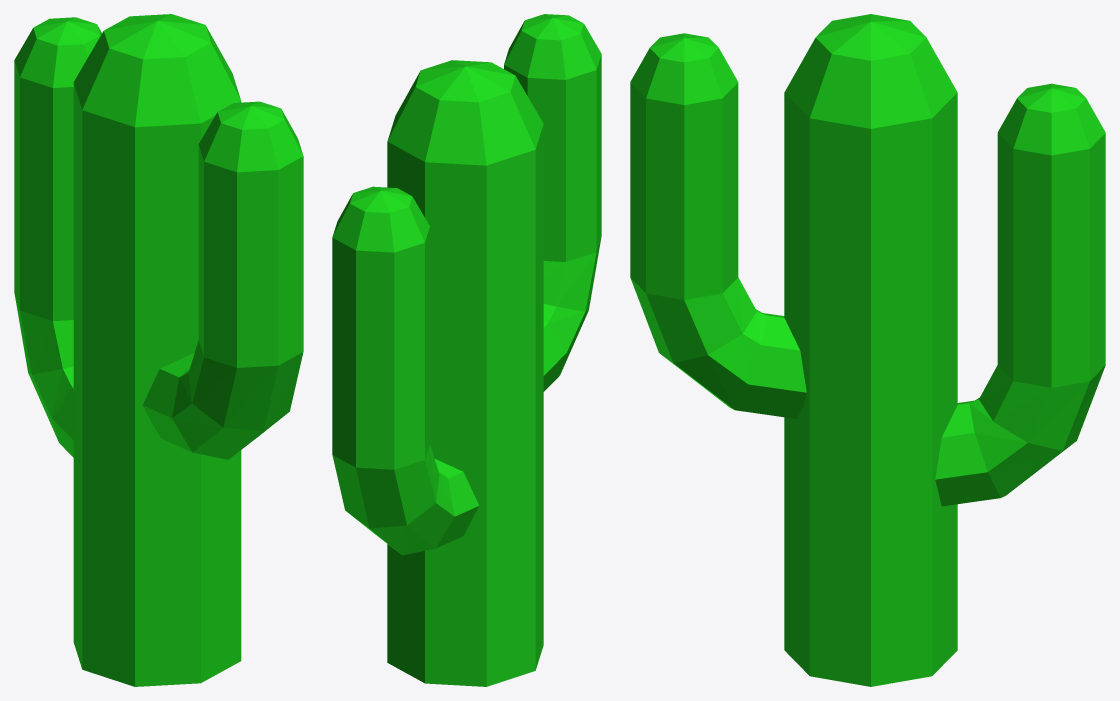
File: cactus2.FBX
3 renders of one model, left to right at view 1: azimuth 30°, elevation 25°; view 2: azimuth 150°, elevation 25°; view 3: azimuth 270°, elevation 25°, orthographic. The views are drawn at different scales.
Parts seen in each view (by area): view 1: cactus2; view 2: cactus2; view 3: cactus2.
Part boxes in pixels (x1=…): cactus2: x1=14, y1=14, x2=303, y2=686; cactus2: x1=332, y1=14, x2=601, y2=686; cactus2: x1=630, y1=14, x2=1105, y2=686.
Size of the model in its own units: 0.9164 by 3.67 by 2.52.
